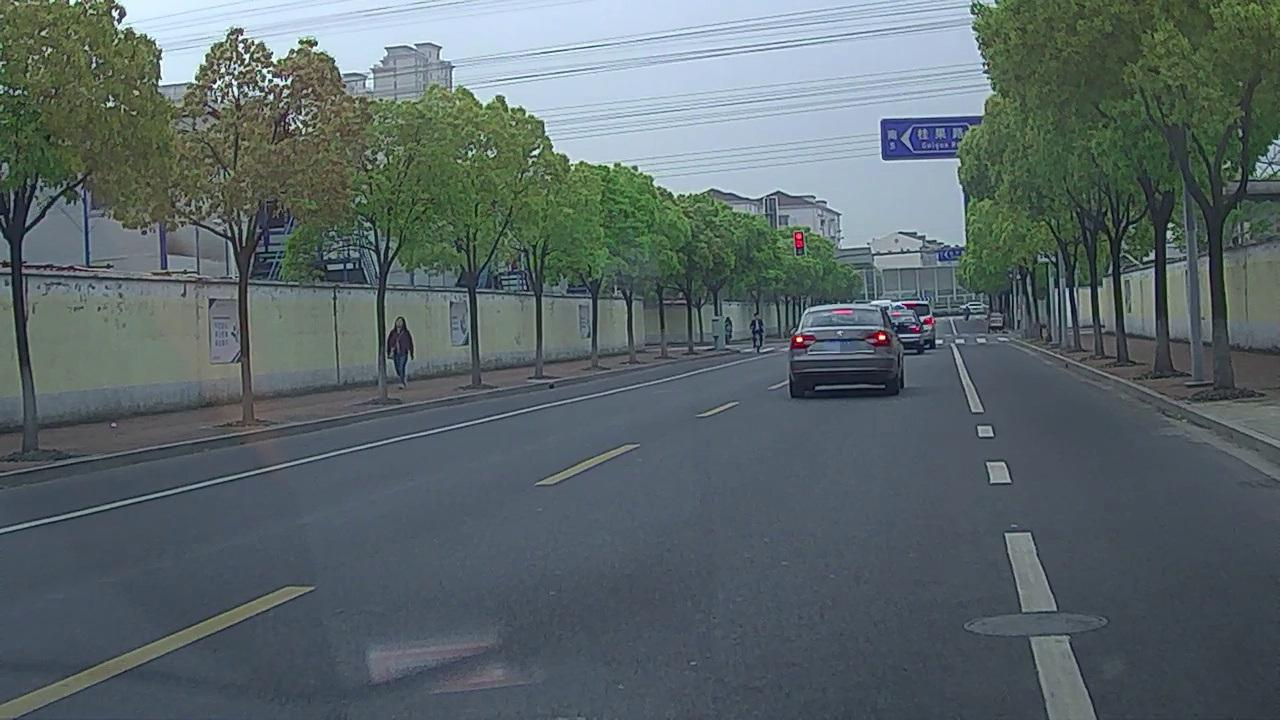traffic_light: (794, 231, 804, 256)
